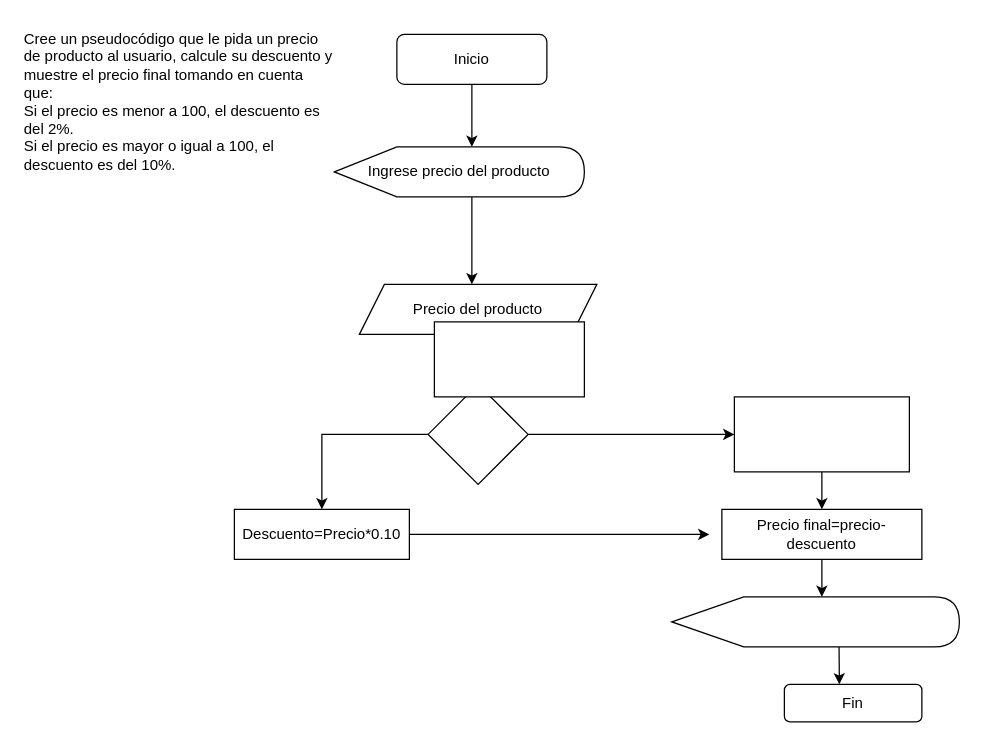
The diagram is 981 pixels wide and 744 high, and some of its shapes have lost their labels. The centre of each missing label's shape, as x and y in pixels:
"El precio final es" precio_final: pixel 815 621
Descuento=precio*0.02: pixel 821 434
Precio<100: pixel 477 433
